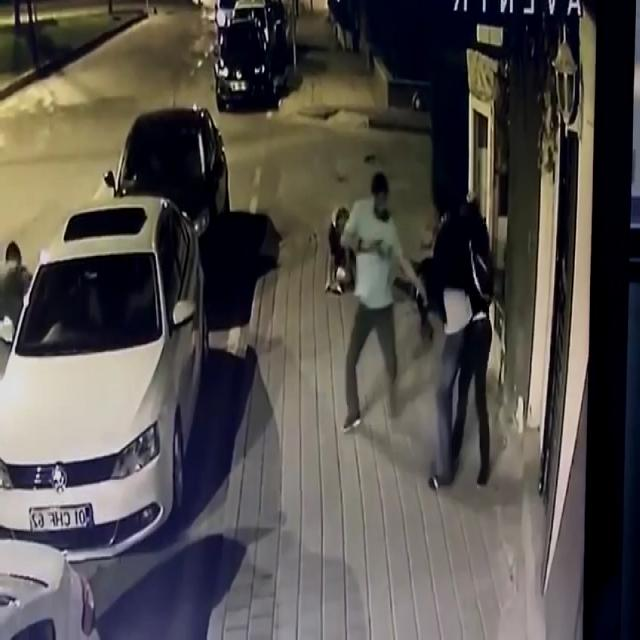fight: (330, 159, 493, 480)
